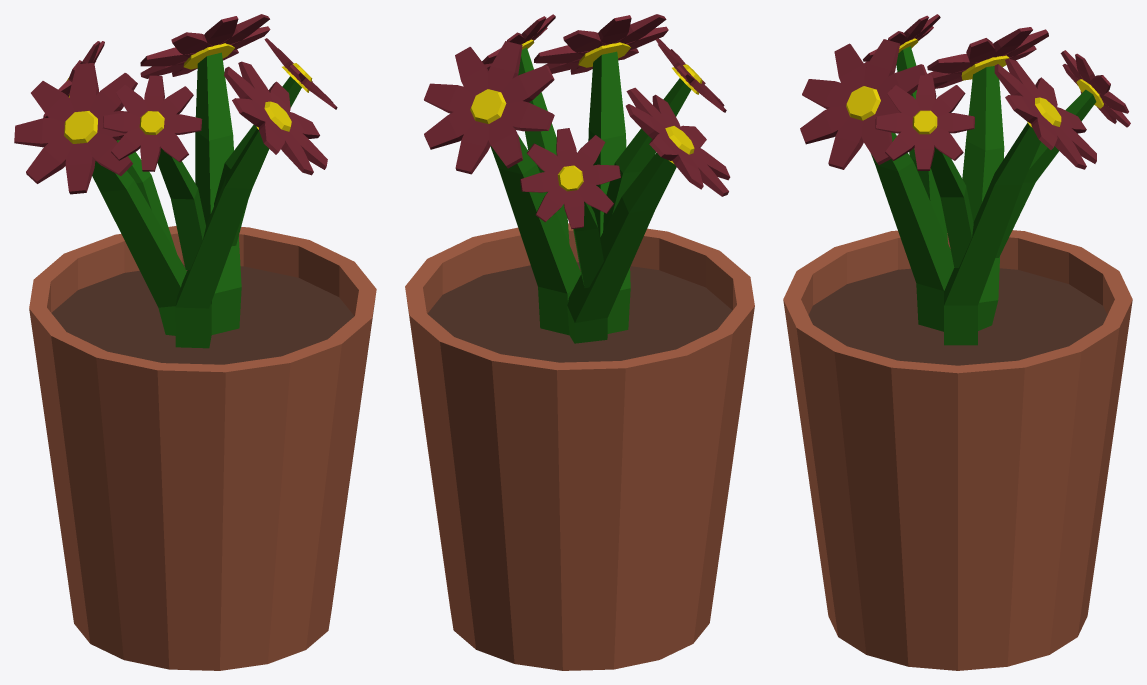
Rendered from bloempot.fbx.
3 views of the same model, side by side, from view 1: azimuth 30°, elevation 25°; view 2: azimuth 150°, elevation 25°; view 3: azimuth 270°, elevation 25° (orthographic).
Visible parts, largest first — view 1: BLOEMpot; view 2: BLOEMpot; view 3: BLOEMpot.
Part boxes in pixels (bbox=[...]): BLOEMpot: bbox=[14, 14, 376, 670]; BLOEMpot: bbox=[405, 14, 754, 670]; BLOEMpot: bbox=[783, 14, 1132, 670].
Bounding box in the file's own units: 0.1424 × 0.25 × 0.1387.
